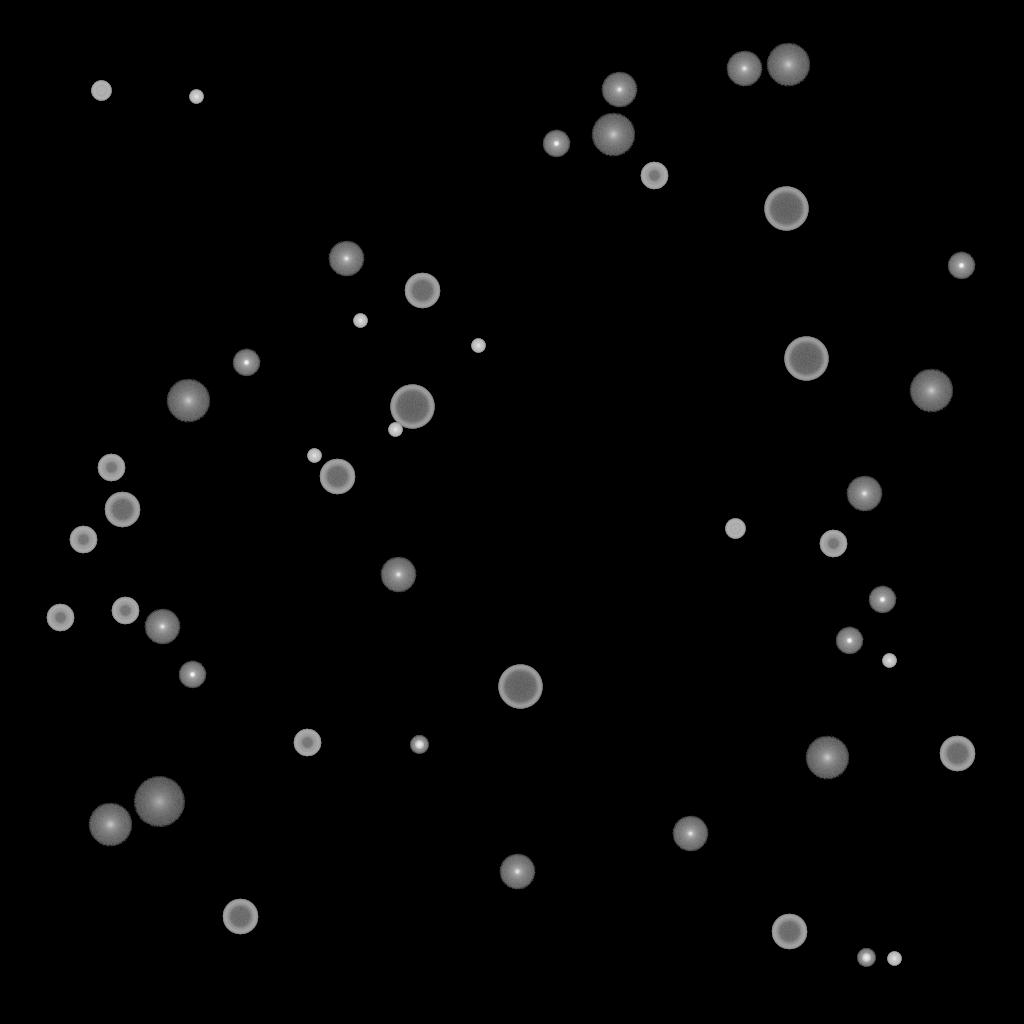depth:-10: (947, 252, 975, 280), (868, 586, 896, 614), (835, 627, 863, 655), (178, 661, 206, 689), (232, 349, 260, 377), (542, 130, 570, 158)
depth:-20: (410, 736, 428, 754), (857, 949, 875, 967)
depth:-30: (471, 339, 485, 353), (388, 423, 402, 437), (882, 654, 896, 668), (189, 90, 203, 104), (307, 449, 321, 463), (887, 952, 901, 966), (353, 314, 367, 328)
depth:-40: (91, 81, 111, 101), (725, 519, 745, 539)
depth:-50: (111, 597, 139, 625), (46, 604, 74, 632), (69, 526, 97, 554), (640, 162, 668, 190), (819, 530, 847, 558), (97, 454, 125, 482), (293, 729, 321, 757)
depth:-60: (222, 899, 258, 935), (319, 459, 355, 495), (939, 736, 975, 772), (771, 914, 807, 950), (404, 273, 440, 309), (104, 492, 140, 528)
depth:-70: (784, 337, 828, 381), (498, 665, 542, 709), (764, 187, 808, 231), (390, 385, 434, 429)
depth:0: (726, 51, 762, 87), (846, 476, 882, 512), (601, 72, 637, 108), (499, 854, 535, 890), (144, 609, 180, 645), (328, 241, 364, 277), (380, 557, 416, 593), (672, 816, 708, 852)
depth:10: (88, 803, 132, 847), (766, 43, 810, 87), (166, 379, 210, 423), (909, 369, 953, 413), (805, 736, 849, 780), (591, 113, 635, 157)
depth:20: (133, 777, 185, 827)
